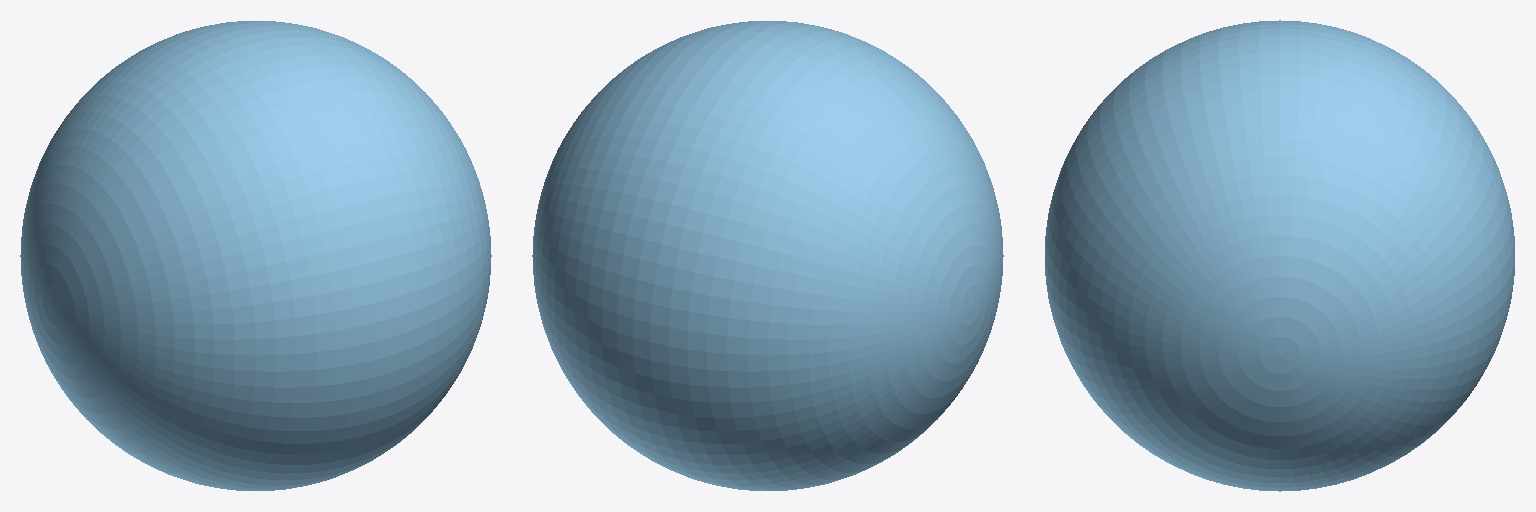
The robot description file, URDF, robot "bullet":
<?xml version="1.0" ?>
<!-- Generated using onshape-to-robot -->
<!-- OnShape https://cad.onshape.com/documents/64619e55a1727ae1b418005a/w/9292e7ec410dfa2a04ef1db2/e/502627d56547c81e1f95c8ed -->
<robot name="bullet">
    <!-- Link part_1 -->
    <link name="part_1">
        <inertial>
            <origin xyz="0 0 0" rpy="0 0 0"/>
            <mass value="1e-09"/>
            <inertia ixx="1e-09" ixy="0" ixz="0" iyy="1e-09" iyz="0" izz="1e-09"/>
        </inertial>
        <!-- Part part_1 -->
        <visual>
            <origin xyz="0 0 0" rpy="0 -0 0"/>
            <geometry>
                <mesh filename="package://assets/part_1.stl"/>
            </geometry>
            <material name="part_1_material">
                <color rgba="0.615686 0.811765 0.929412 1.0"/>
            </material>
        </visual>
        <collision>
            <origin xyz="0 0 0" rpy="0 -0 0"/>
            <geometry>
                <mesh filename="package://assets/part_1.stl"/>
            </geometry>
        </collision>
    </link>
</robot>

--- What the picture shows (computed from the rendered views, not written in the file) ---
Views: 3 orthographic renders of the robot side by side, from view 1: azimuth 30°, elevation 25°; view 2: azimuth 150°, elevation 25°; view 3: azimuth 270°, elevation 25°.
Model bullet with 1 links and 0 joints (none), rooted at part_1, posed all joints at 0.
Links seen in each view (by area): view 1: part_1; view 2: part_1; view 3: part_1.
Link boxes in pixels (left/top/right/bottom): part_1: left=20, top=21, right=491, bottom=490; part_1: left=532, top=21, right=1003, bottom=490; part_1: left=1045, top=20, right=1514, bottom=491.
Bounding box of the posed robot: 0.017 × 0.017 × 0.017 m (x, y, z).
1 mesh visuals loaded from 1 distinct referenced files (1 binary STL).